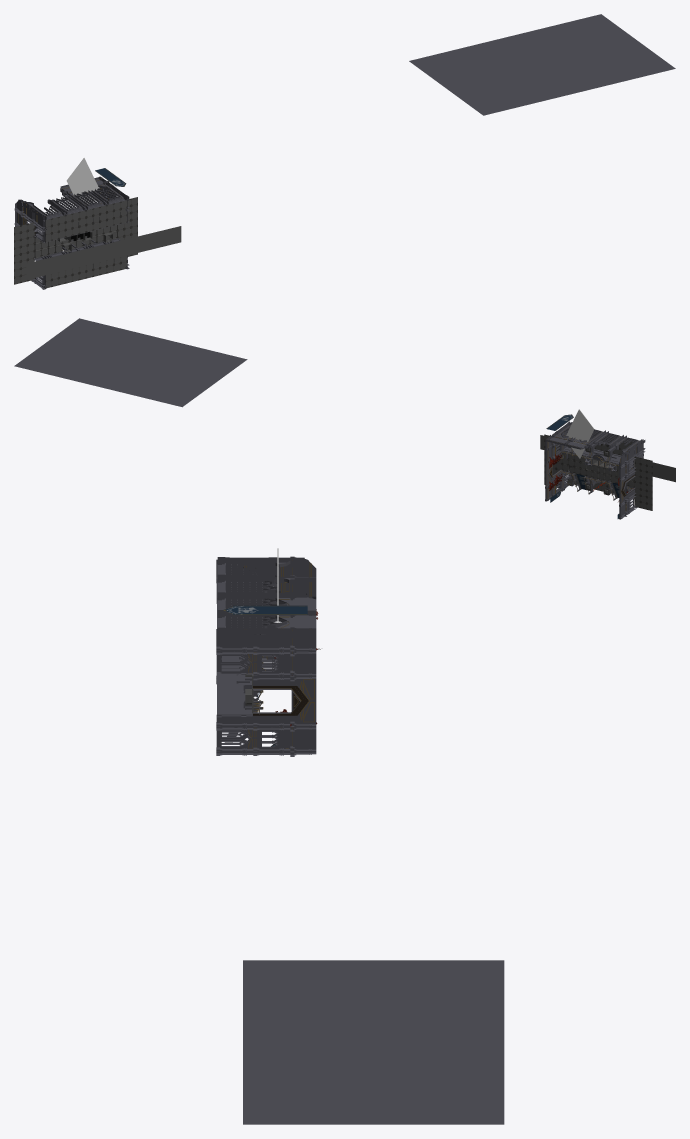
The model's file is BATTLE.fbx.
The picture shows the model from 3 angles, top to bottom: view 1: azimuth 30°, elevation 25°; view 2: azimuth 150°, elevation 25°; view 3: azimuth 270°, elevation 25°; orthographic projection. The views are drawn at different scales.
Visible parts, largest first — view 1: S_outworld_shadow222, S_outworld_floor501, S_outworld_floor498, S_outworld_floor499, shadows, S_outworld_gird380, S_outworld_wall200, S_outworld_gird397, S_outworld_wall205; view 2: S_outworld_shadow222, S_outworld_gird380, shadows, S_outworld_floor501, S_outworld_gird396; view 3: S_outworld_shadow222, S_outworld_wall305, S_outworld_wall205, S_outworld_out132, S_outworld_wall200, S_outworld_wall321, S_outworld_wall207, S_outworld_wall316, S_outworld_wall208, S_outworld_wall317, S_outworld_wall322, S_outworld_wall312 (+1 smaller).
Part boxes in pixels (box(x1,y1,x2,y2)): S_outworld_shadow222: box(409, 14, 675, 115); S_outworld_floor501: box(26, 226, 181, 279); S_outworld_floor498: box(45, 200, 127, 241); S_outworld_floor499: box(45, 255, 127, 288); shadows: box(66, 158, 99, 204); S_outworld_gird380: box(21, 222, 34, 282); S_outworld_wall200: box(64, 190, 108, 211); S_outworld_gird397: box(124, 197, 137, 256); S_outworld_wall205: box(91, 182, 129, 204); S_outworld_shadow222: box(14, 318, 247, 407); S_outworld_gird380: box(634, 456, 646, 509); shadows: box(566, 409, 594, 458); S_outworld_floor501: box(540, 435, 675, 482); S_outworld_gird396: box(646, 459, 652, 510); S_outworld_shadow222: box(243, 960, 504, 1124); S_outworld_wall305: box(253, 677, 316, 724); S_outworld_wall205: box(217, 615, 290, 637); S_outworld_out132: box(217, 673, 252, 717); S_outworld_wall200: box(217, 592, 290, 617); S_outworld_wall321: box(253, 646, 290, 680); S_outworld_wall207: box(217, 574, 280, 597); S_outworld_wall316: box(253, 723, 290, 755); S_outworld_wall208: box(217, 557, 290, 580); S_outworld_wall317: box(216, 726, 253, 755); S_outworld_wall322: box(216, 646, 253, 673); S_outworld_wall312: box(290, 721, 316, 756).
Size of what is drawn, in the model's own units: 0.9662 by 0.1472 by 0.2287.
